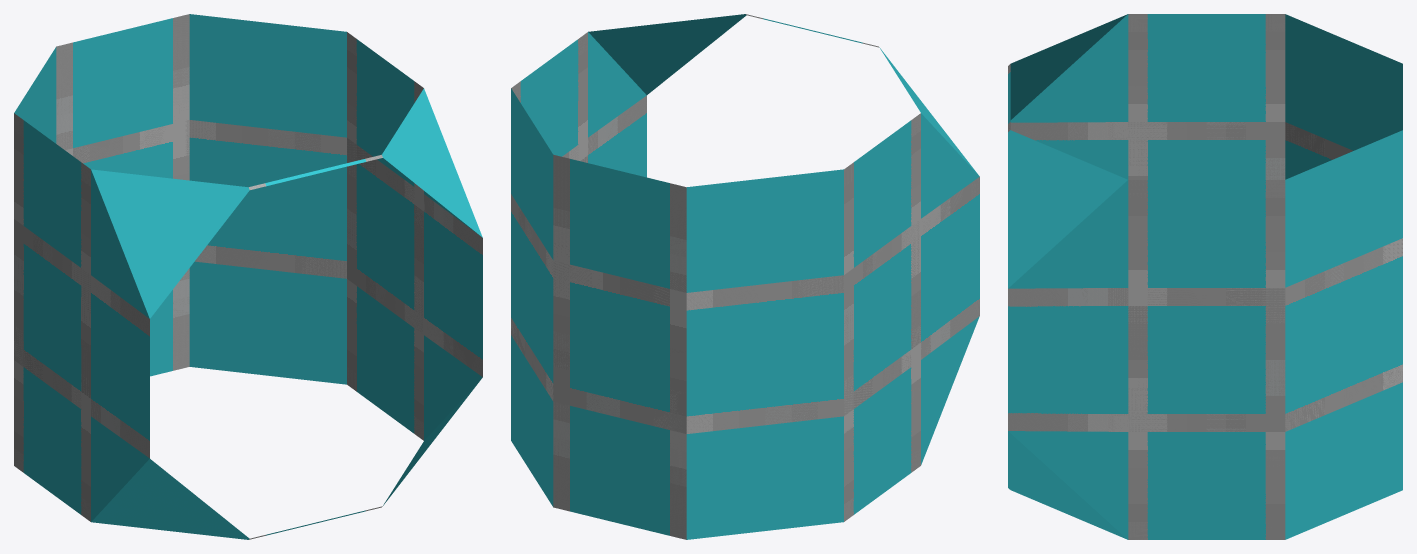
Rendered from viaduct_connected_side.obj.
3 renders of one model, left to right at view 1: azimuth 30°, elevation 25°; view 2: azimuth 150°, elevation 25°; view 3: azimuth 270°, elevation 25°, orthographic. The views are drawn at different scales.
Parts seen in each view (by area): view 1: Cube; view 2: Cube; view 3: Cube.
Part boxes in pixels (x1,y1,x2,y2): Cube: (14,14,482,539); Cube: (511,14,979,539); Cube: (1008,14,1402,539).
Size of the model in its own units: 0.9875 by 1 by 0.9937.
